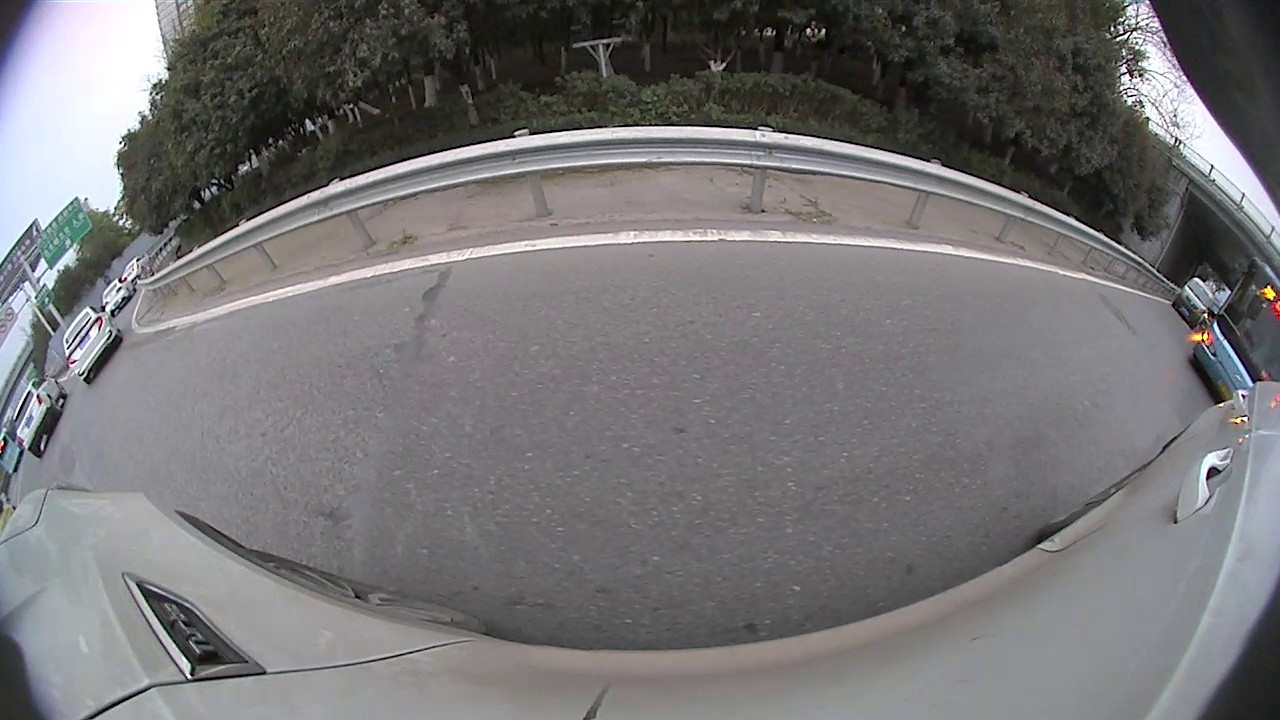bus: (1192, 253, 1278, 408)
car: (58, 303, 125, 386), (9, 373, 69, 459), (1169, 275, 1219, 327)
